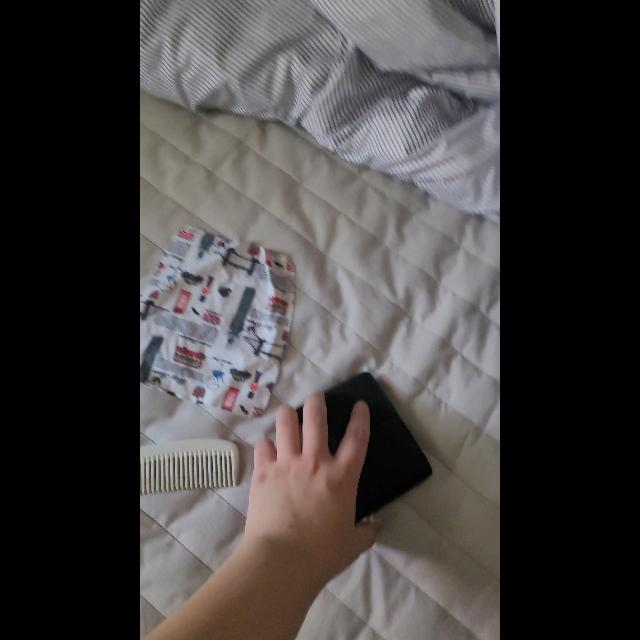COMB: (140, 439, 240, 495)
Glasses cleaning cloth: (140, 224, 296, 418)
WALLET: (295, 372, 433, 526)
